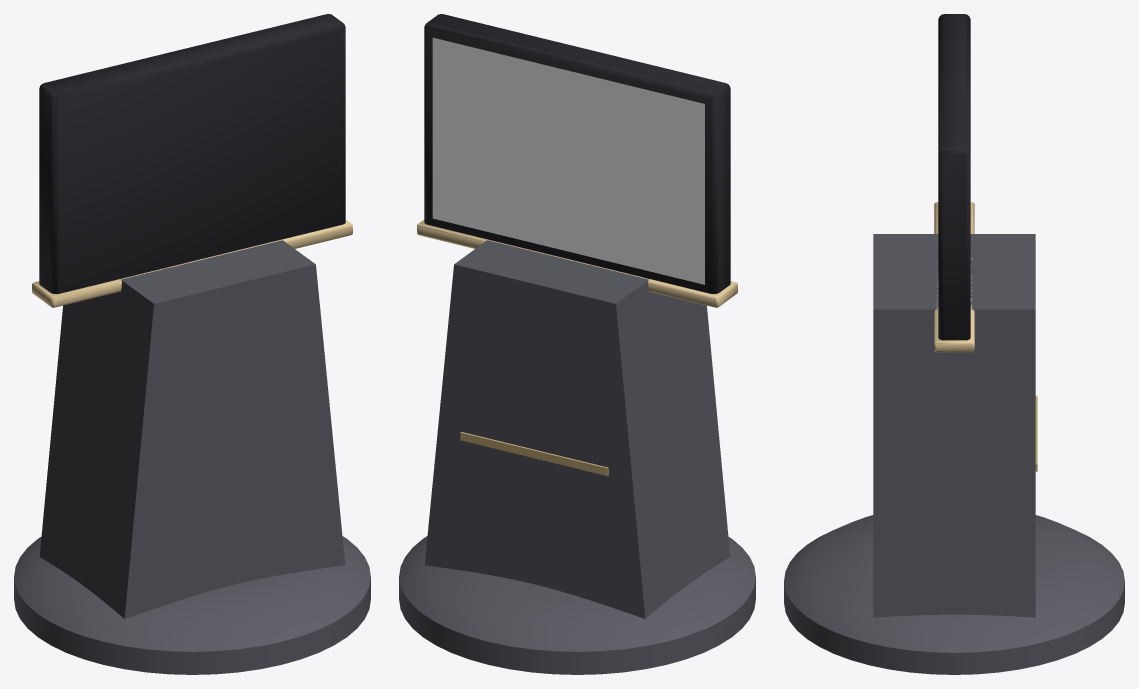
File: CoreMain_Altar.fbx
3 views of the same model, side by side, from view 1: azimuth 30°, elevation 25°; view 2: azimuth 150°, elevation 25°; view 3: azimuth 270°, elevation 25° (orthographic). The views are drawn at different scales.
Parts seen in each view (by area): view 1: CoreMain_Altar; view 2: CoreMain_Altar; view 3: CoreMain_Altar.
Part boxes in pixels (bbox=[...]): CoreMain_Altar: bbox=[14, 14, 370, 674]; CoreMain_Altar: bbox=[399, 14, 755, 674]; CoreMain_Altar: bbox=[784, 14, 1124, 674].
Size of the model in its own units: 0.84 by 1.42 by 0.84.
